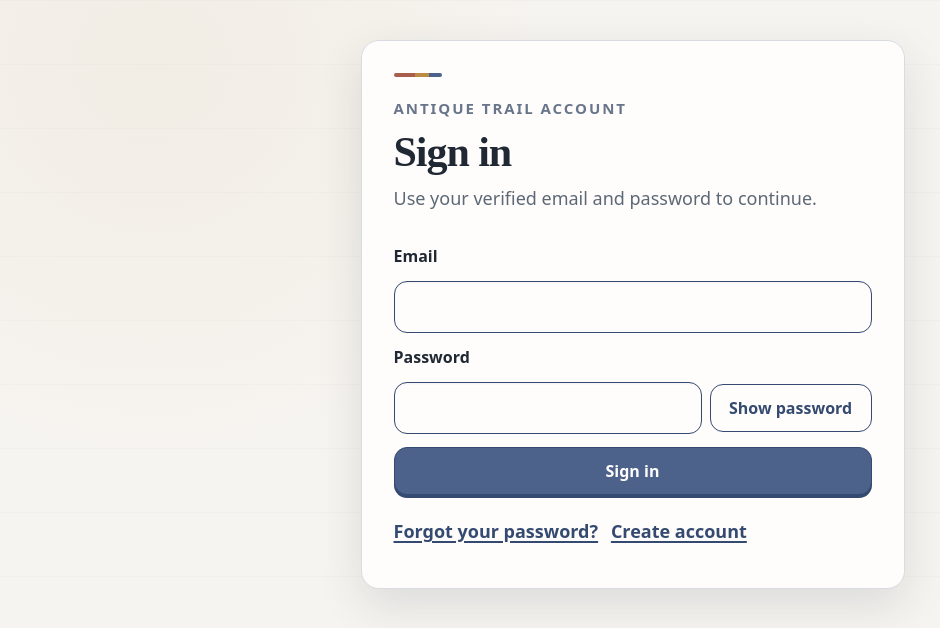
it: auth states › toggles password visibility with an accessible, focus-preserving control
In the password field labelled "Password": (548, 408) [394,382,702,434], type "secret"
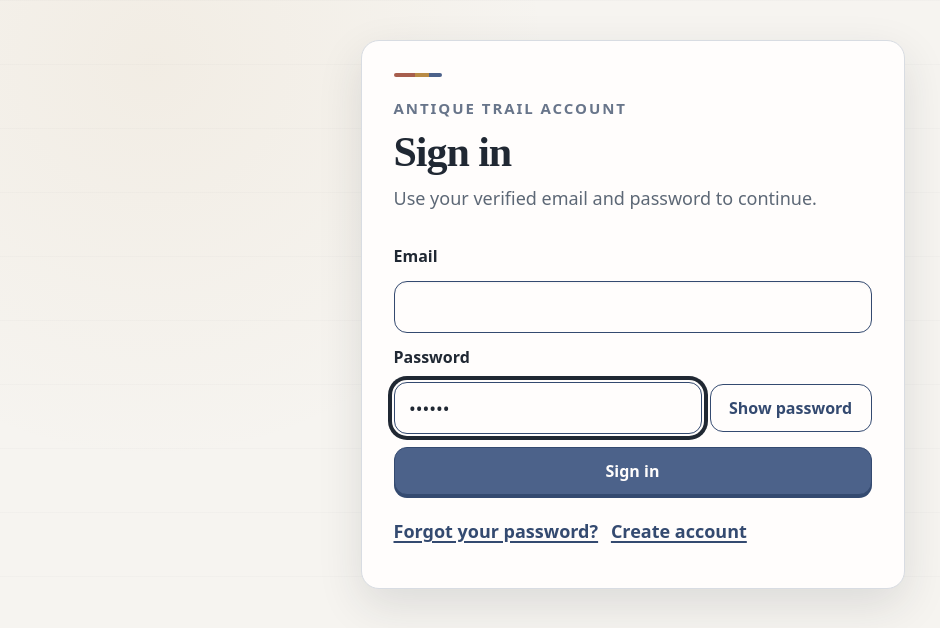
Click the button "Show password": (791, 408) [710,384,872,432]
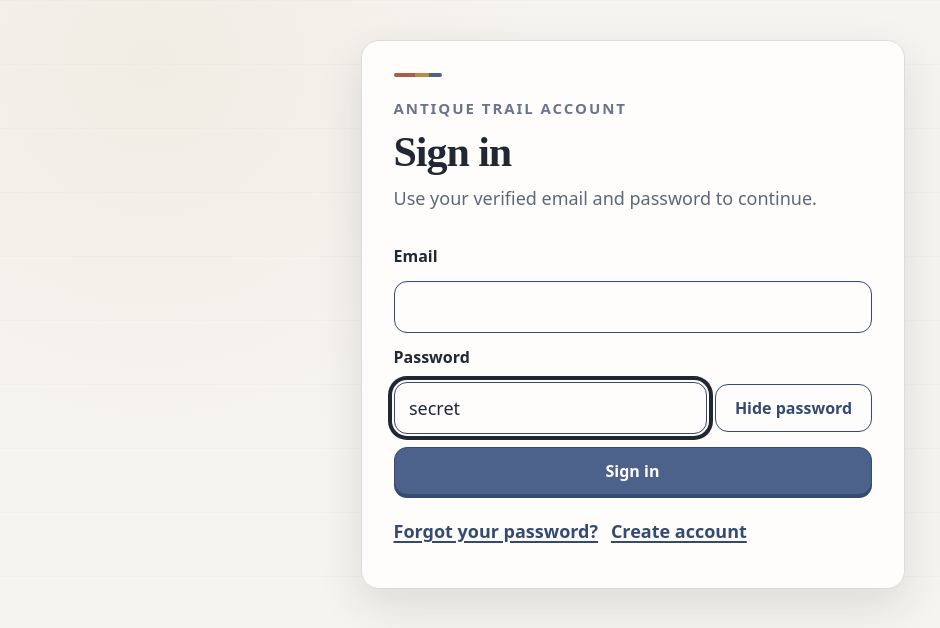
Expected: the field labelled "Password" shows its text, [394,382,708,434]
Click the button "Hide password": (794, 408) [716,384,872,432]
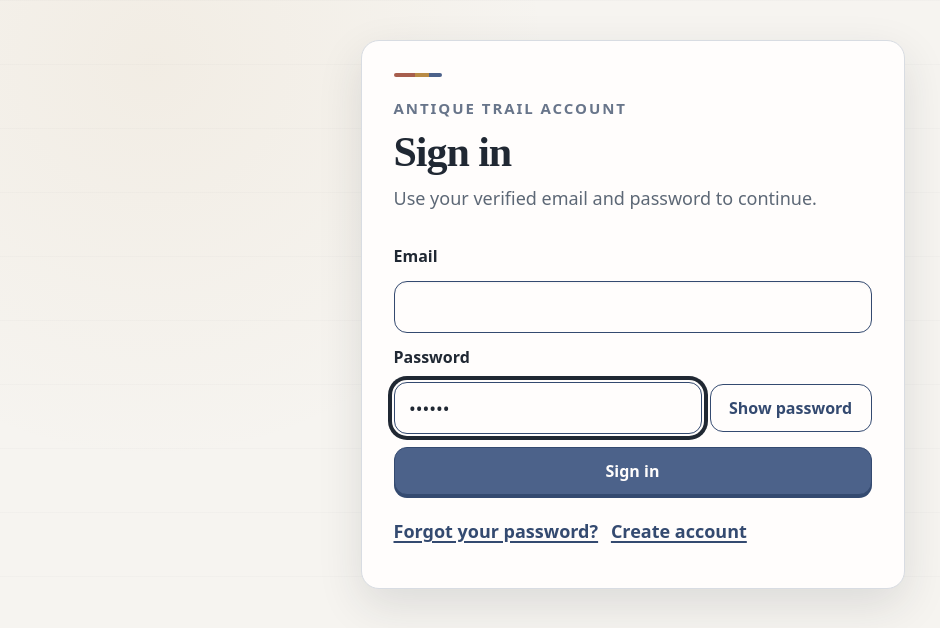
Expected: the password field labelled "Password" hides its text, [394,382,702,434]
